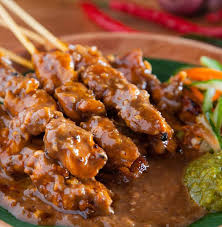sate: (1, 8, 222, 227)
